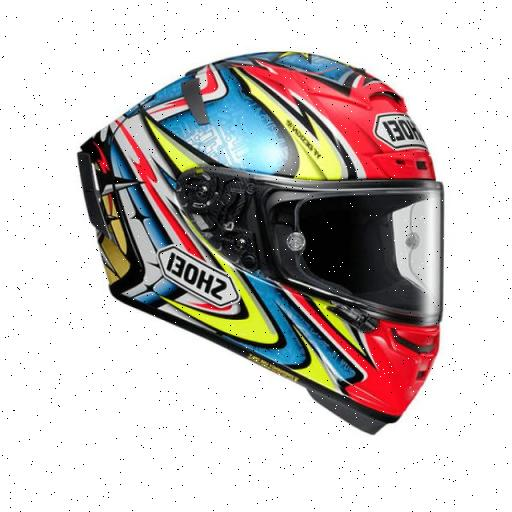Helmet: (68, 51, 478, 459)
